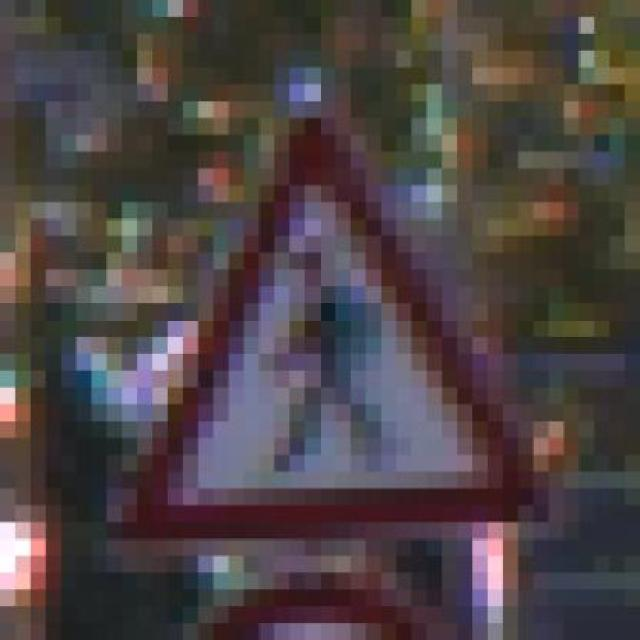Pedestrian Crossing: (91, 101, 564, 539)
